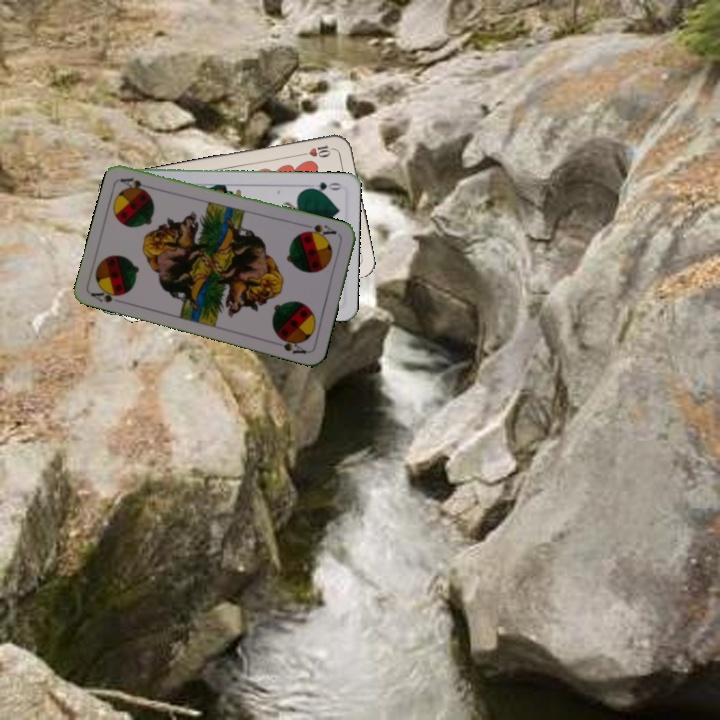GO: (304, 178, 344, 195)
H10: (296, 141, 337, 159)
SA: (87, 283, 128, 305), (300, 220, 339, 241)
